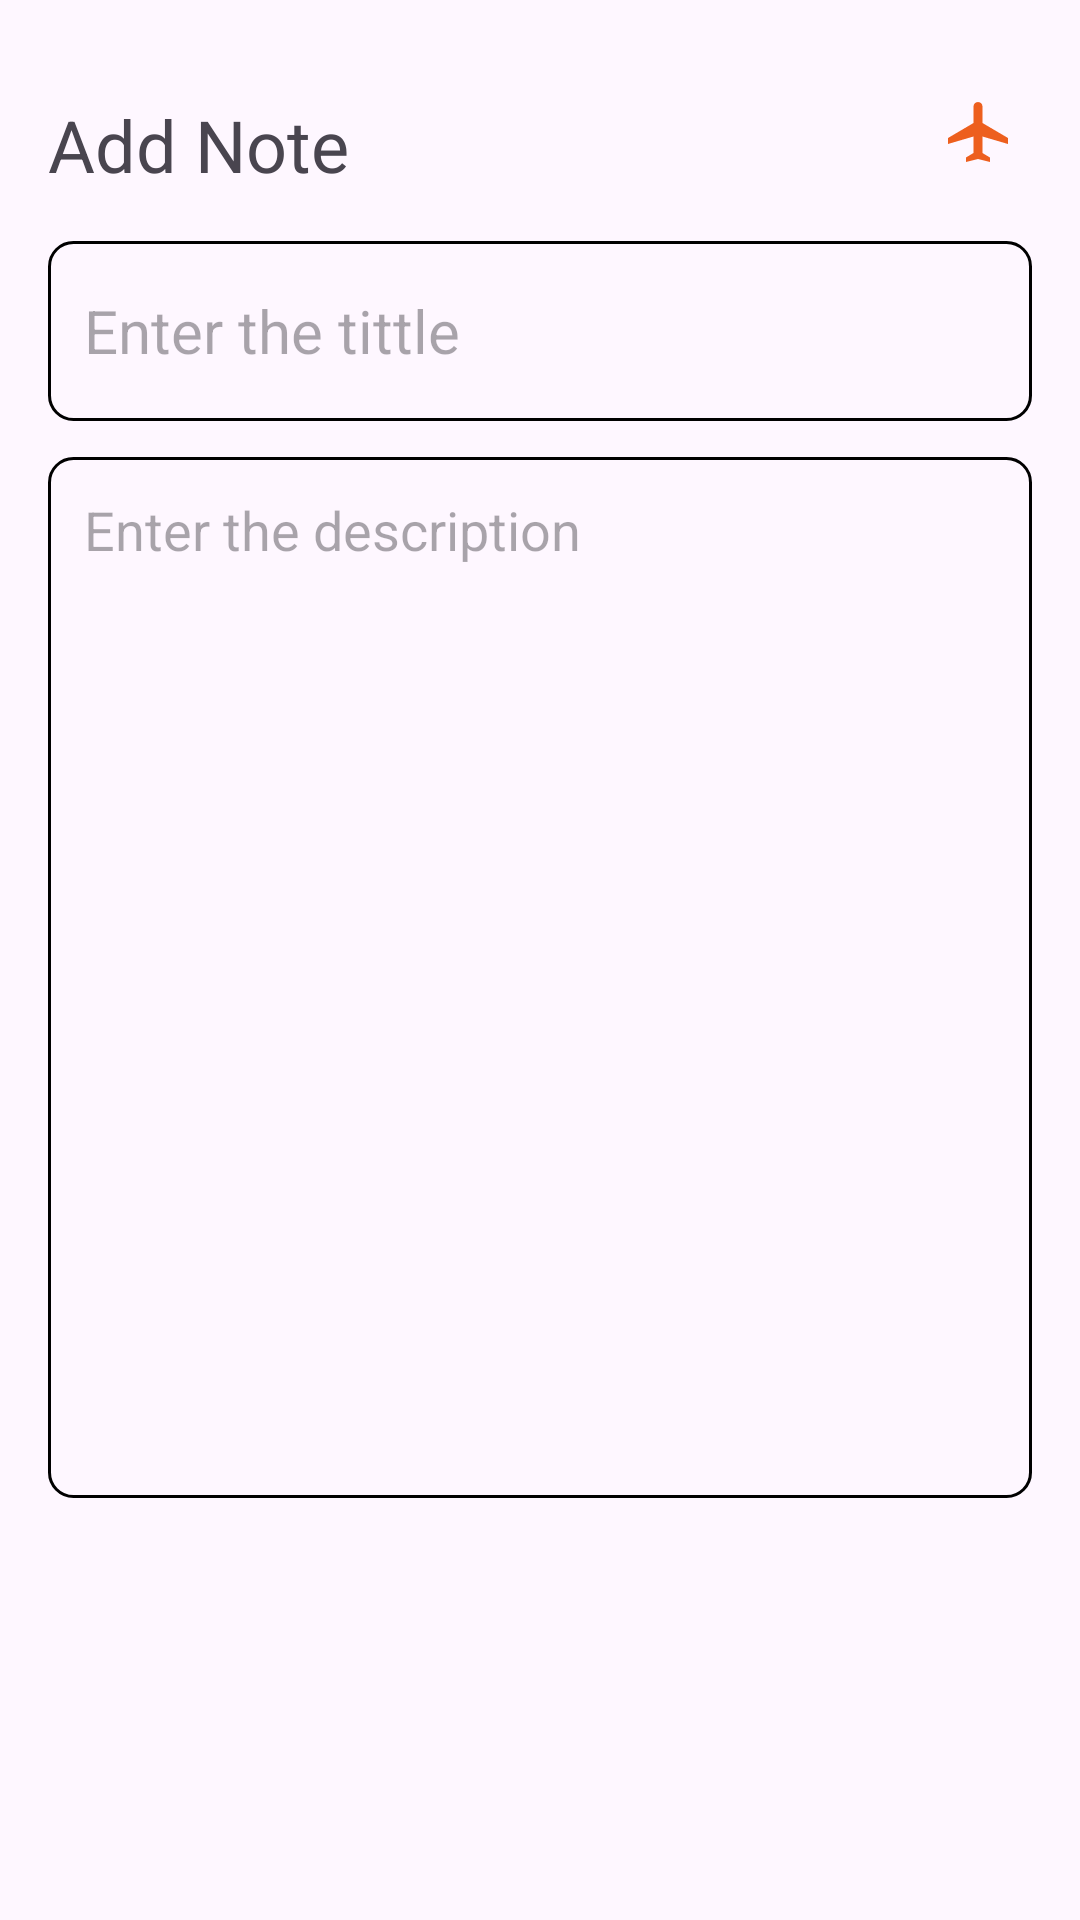

Icons on this 1080w x 1920h Android screen, each with the point to tap as [x,y]:
airplanemode: [978,132]
